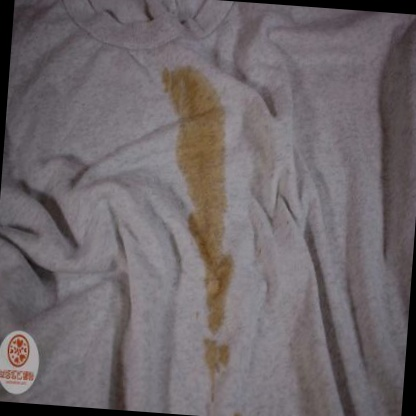coffee: (182, 132, 225, 189), (174, 72, 216, 129), (205, 252, 231, 331), (191, 191, 225, 243)
